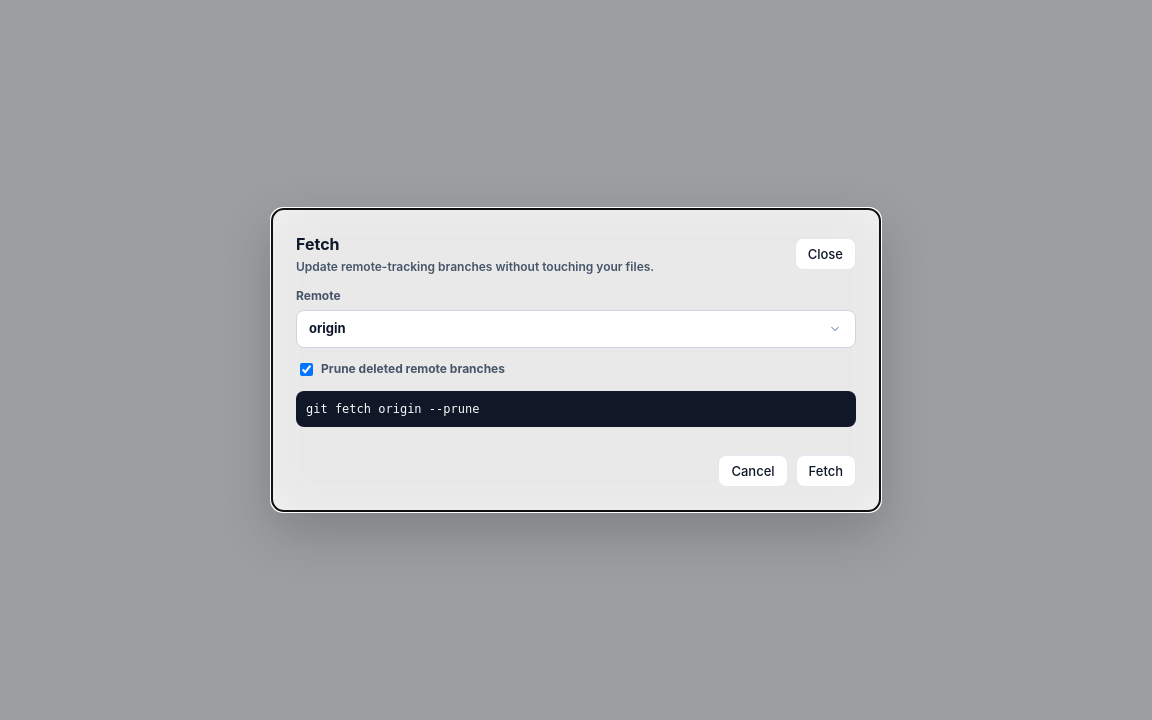
it: FetchDialog › fetches all remotes when All remotes is selected
The width and height of the screenshot is (1152, 720).
Step 1. Select "All remotes" in the dropdown labelled "Remote" → point(576, 328), box [296,310,856,348]
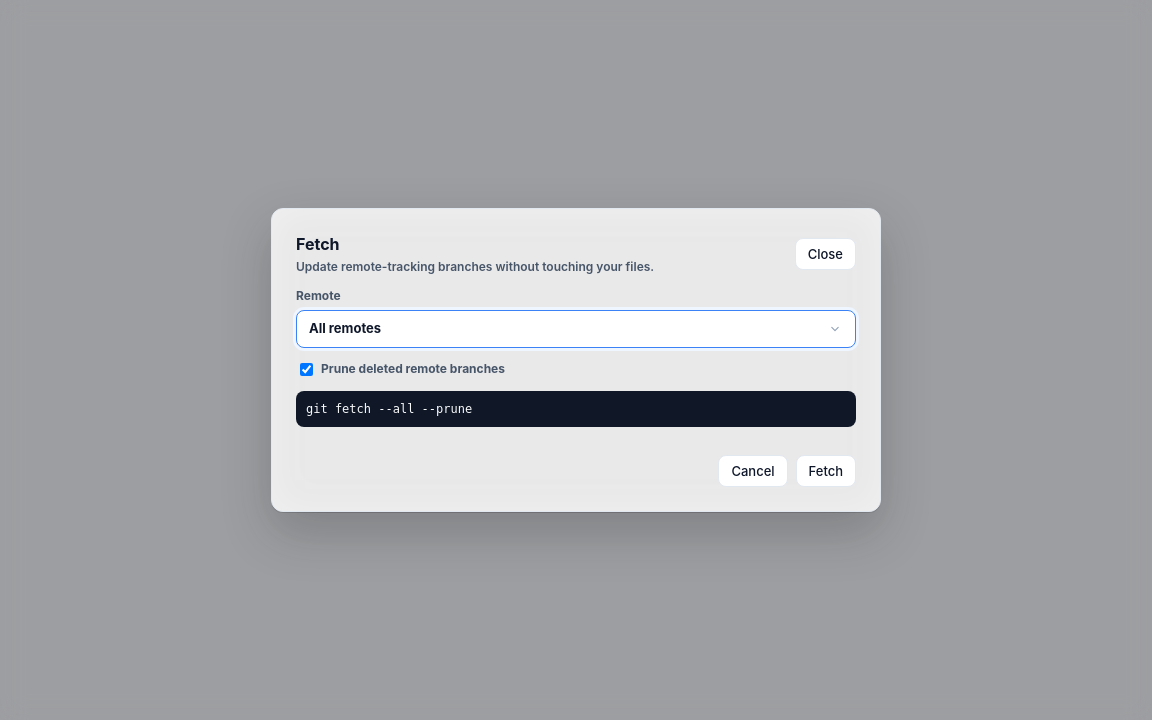
Result: the text "git fetch --all --prune" is shown at [296,390,856,427]
